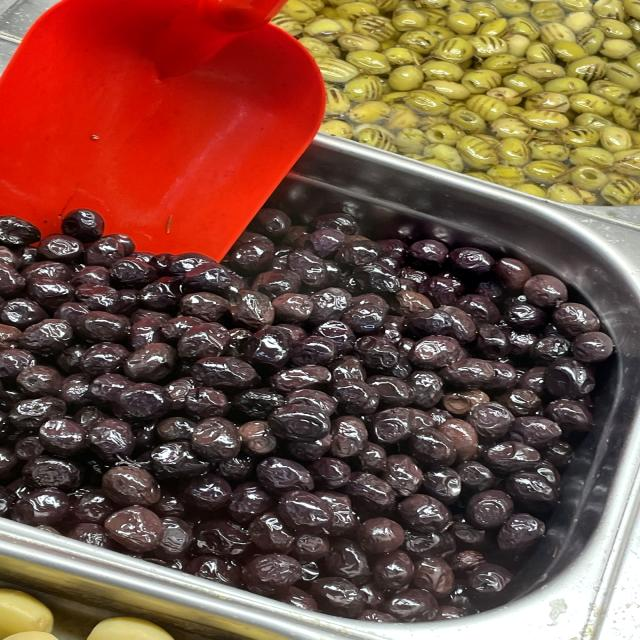olive: (260, 397, 341, 447), (100, 502, 172, 557), (168, 315, 244, 365), (100, 459, 173, 510), (236, 548, 308, 596), (189, 409, 247, 466), (351, 510, 408, 559), (73, 337, 136, 378), (507, 411, 568, 451)
